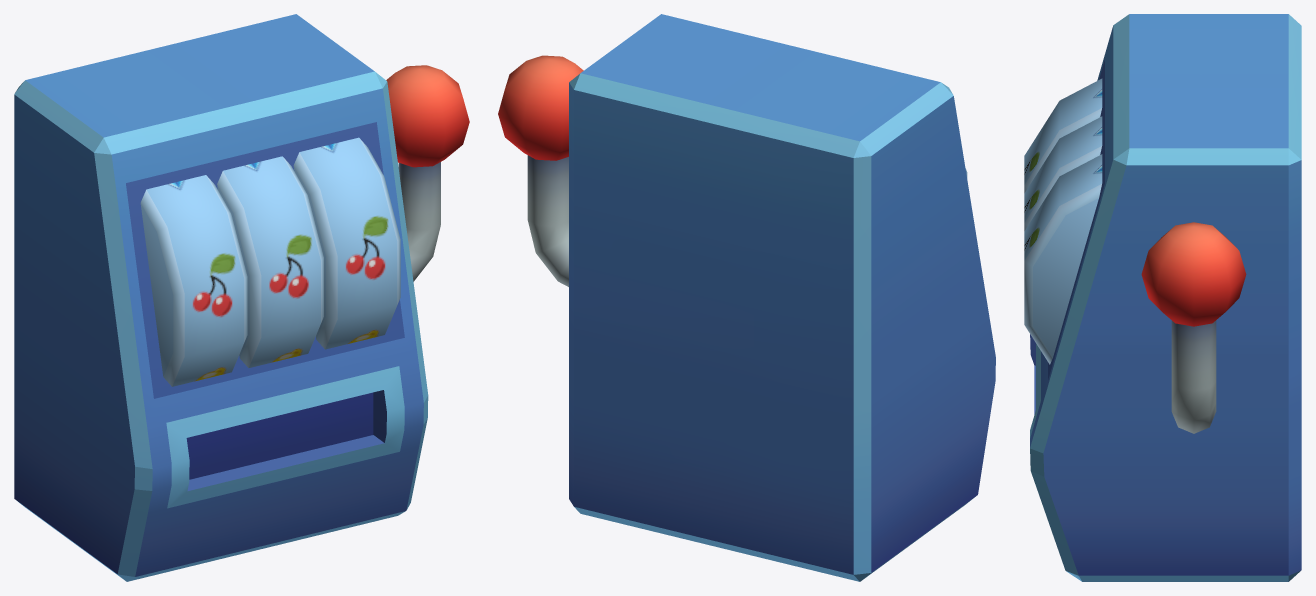
The model's file is Jackpot_01.fbx.
The picture shows the model from 3 angles, left to right: view 1: azimuth 30°, elevation 25°; view 2: azimuth 150°, elevation 25°; view 3: azimuth 270°, elevation 25°; orthographic projection. The views are drawn at different scales.
Parts seen in each view (by area): view 1: Jackpot_01, Jackpot_slot_03, Jackpot_slot_02, Jackpot_slot_01, Jackpot_01_handle; view 2: Jackpot_01, Jackpot_01_handle; view 3: Jackpot_01, Jackpot_01_handle, Jackpot_slot_01, Jackpot_slot_02, Jackpot_slot_03.
Boxes of the visible parts, x1,y1,x2,y2 form: Jackpot_01: (14, 14, 428, 581); Jackpot_slot_03: (140, 175, 247, 386); Jackpot_slot_02: (217, 156, 323, 367); Jackpot_slot_01: (293, 137, 400, 349); Jackpot_01_handle: (386, 65, 469, 281); Jackpot_01: (569, 14, 995, 581); Jackpot_01_handle: (498, 55, 583, 286); Jackpot_01: (1030, 14, 1301, 581); Jackpot_01_handle: (1141, 222, 1246, 433); Jackpot_slot_01: (1024, 154, 1102, 364); Jackpot_slot_02: (1024, 116, 1102, 230); Jackpot_slot_03: (1024, 78, 1102, 193).
Bounding box in the file's own units: 1.53 × 0.8994 × 1.55.
